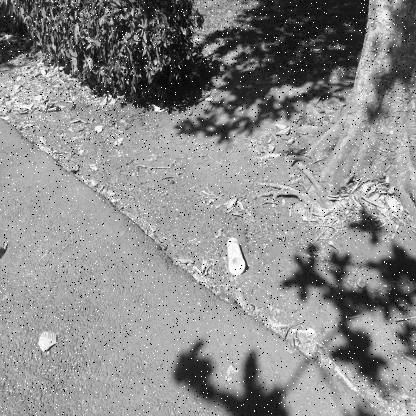cardboard: (228, 238, 246, 275)
plastic: (292, 328, 316, 335)
